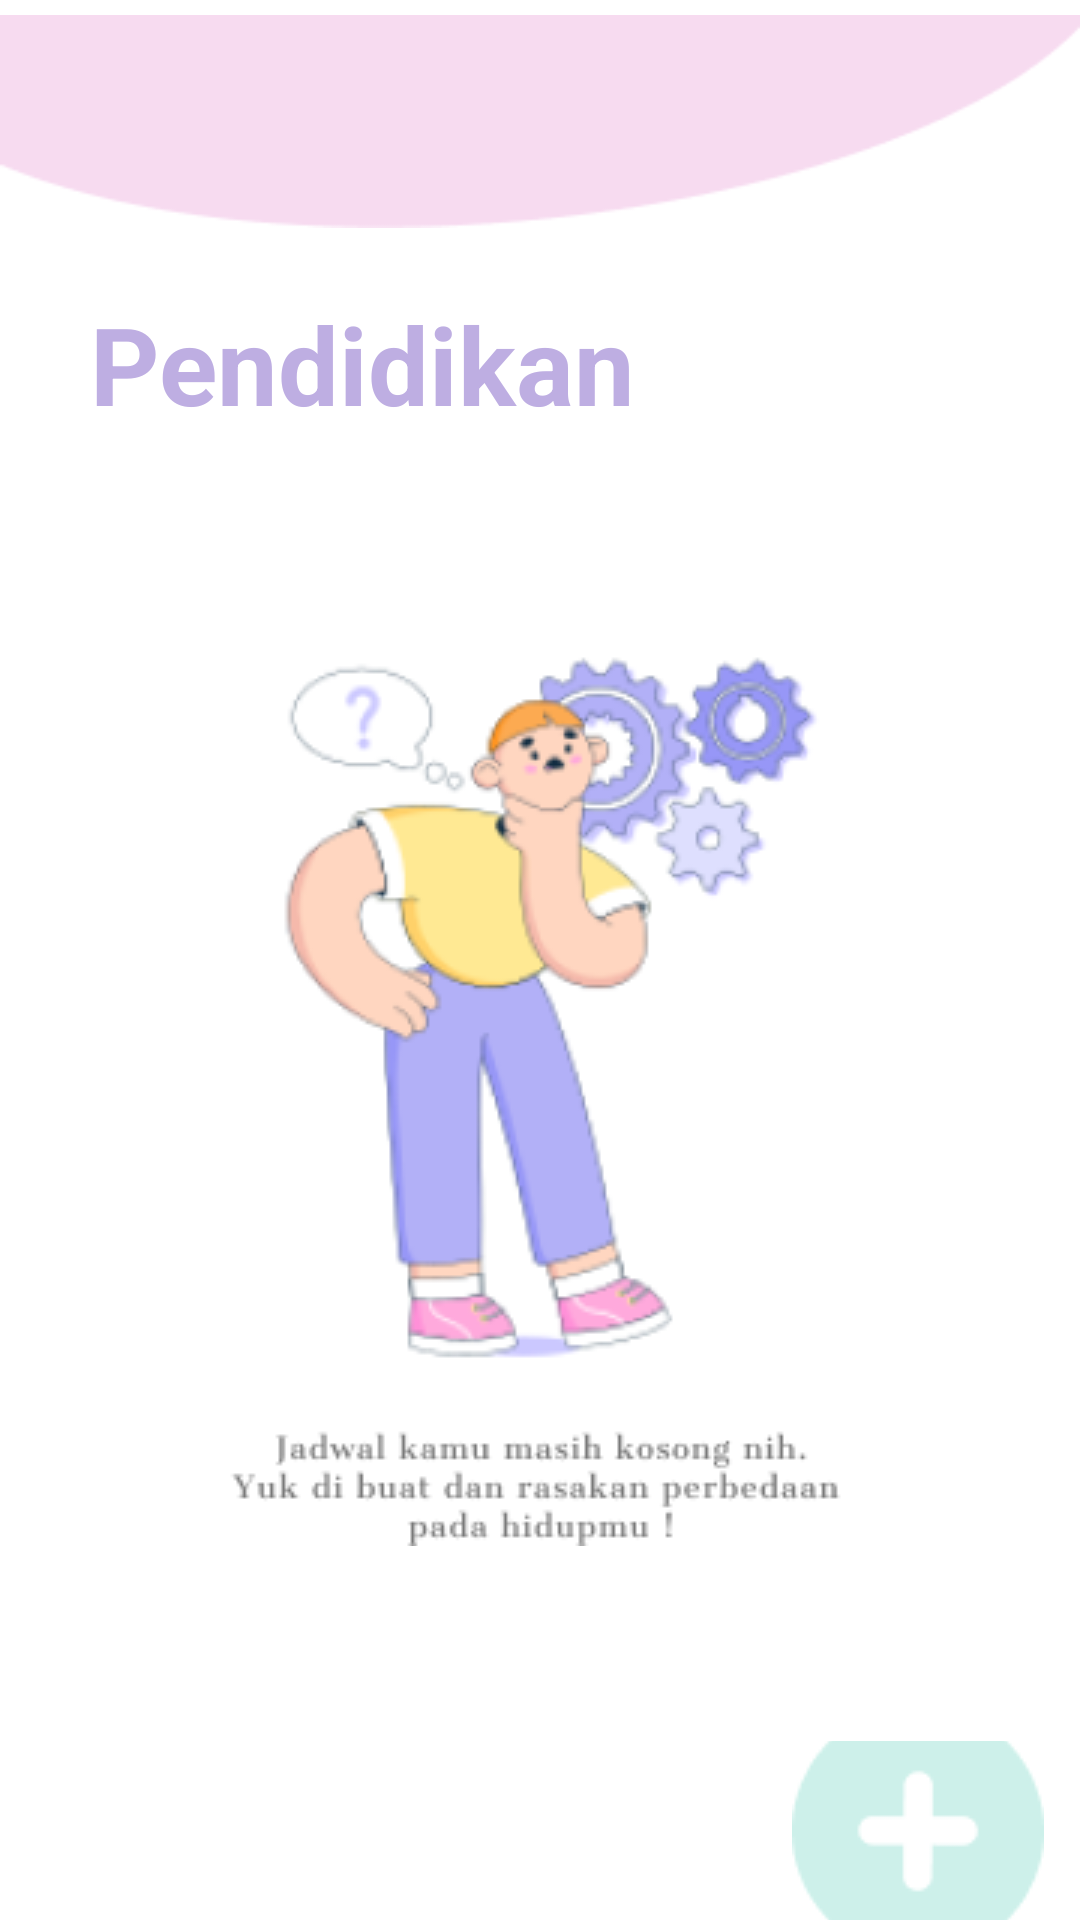

Icons on this 1080*1920 Android screen, each with its box as (x1, y1, x2, y2):
tambah: (792, 1741, 1044, 1920)
